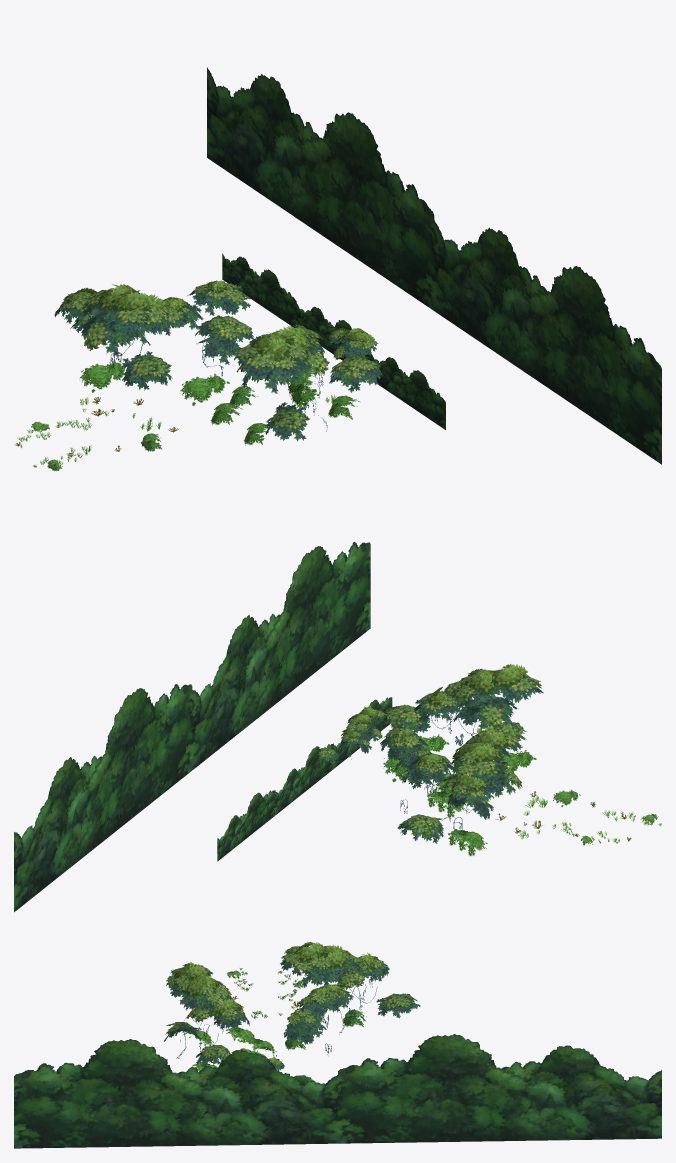
File: boss4_zhibei_1.fbx
3 renders of one model, top to bottom at view 1: azimuth 30°, elevation 25°; view 2: azimuth 150°, elevation 25°; view 3: azimuth 270°, elevation 25°, orthographic. The views are drawn at different scales.
Parts seen in each view (by area): view 1: boss4_zhibei_1; view 2: boss4_zhibei_1; view 3: boss4_zhibei_1.
Boxes of the visible parts, x1,y1,x2,y2 form: boss4_zhibei_1: (15, 67, 661, 471); boss4_zhibei_1: (14, 542, 661, 912); boss4_zhibei_1: (14, 942, 661, 1148).
Size of the model in its own units: 5357 by 1599 by 8309.
